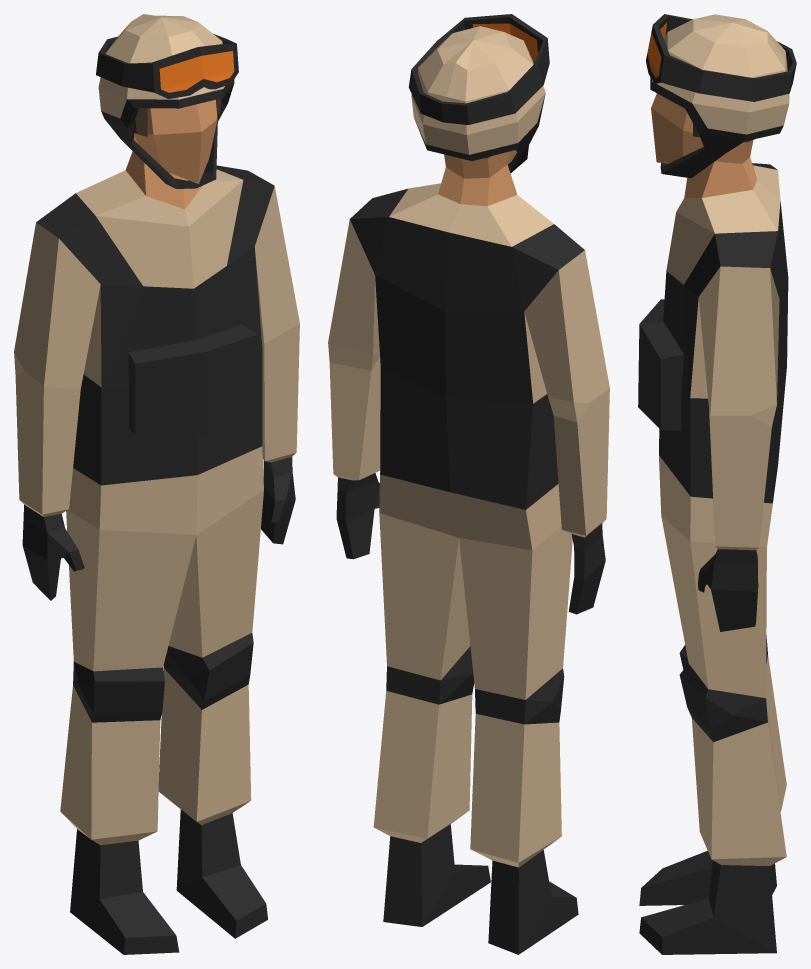
The model's file is man-soldier.glb.
3 views of the same model, side by side, from view 1: azimuth 30°, elevation 25°; view 2: azimuth 150°, elevation 25°; view 3: azimuth 270°, elevation 25° (orthographic).
Parts seen in each view (by area): view 1: man-soldier; view 2: man-soldier; view 3: man-soldier.
Part boxes in pixels (box(x1,y1,x2,y2)): man-soldier: box(14, 14, 299, 954); man-soldier: box(328, 14, 609, 954); man-soldier: box(638, 14, 796, 954).
Bounding box in the file's own units: 0.5516 × 1.84 × 0.295.
Materials: 1 (1 with a texture image).
